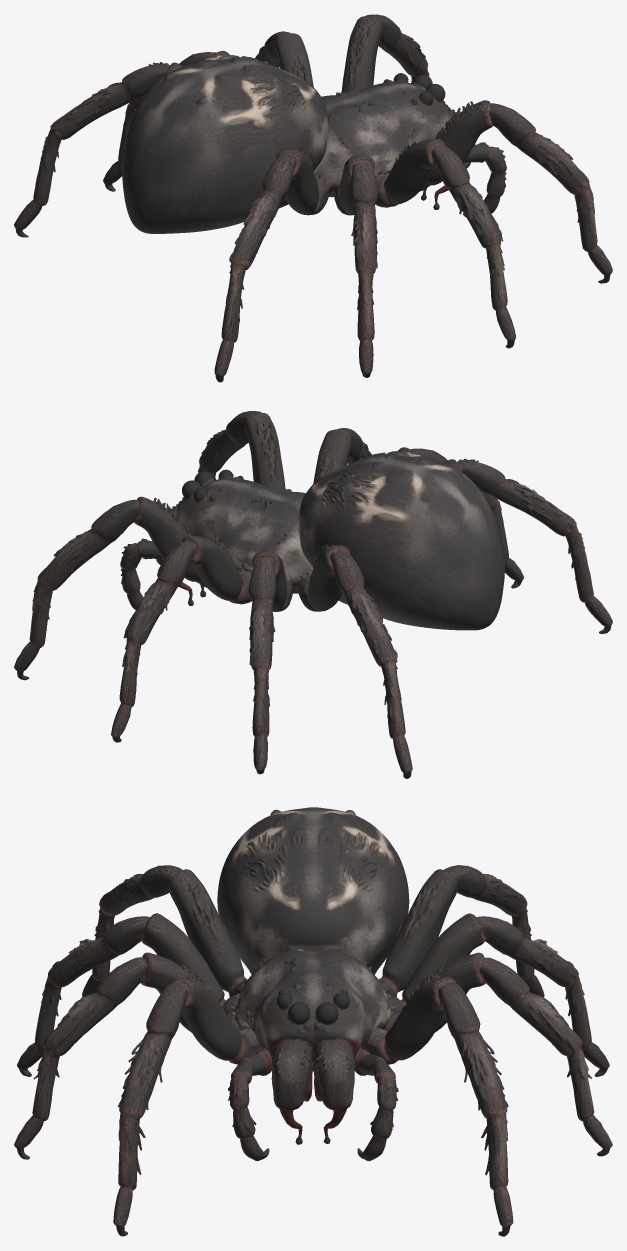
The model's file is spider-original.glb.
3 renders of one model, top to bottom at view 1: azimuth 30°, elevation 25°; view 2: azimuth 150°, elevation 25°; view 3: azimuth 270°, elevation 25°, orthographic. The views are drawn at different scales.
Visible parts, largest first — view 1: tripo_node_8a9a7c1f-1cf7-4bb0-b9ee-af49c4d5c377; view 2: tripo_node_8a9a7c1f-1cf7-4bb0-b9ee-af49c4d5c377; view 3: tripo_node_8a9a7c1f-1cf7-4bb0-b9ee-af49c4d5c377.
Boxes of the visible parts, x1,y1,x2,y2 form: tripo_node_8a9a7c1f-1cf7-4bb0-b9ee-af49c4d5c377: [14, 14, 612, 382]; tripo_node_8a9a7c1f-1cf7-4bb0-b9ee-af49c4d5c377: [14, 411, 612, 778]; tripo_node_8a9a7c1f-1cf7-4bb0-b9ee-af49c4d5c377: [14, 807, 612, 1236].
Size of the model in its own units: 0.8891 by 0.4709 by 1.
1 material, 1 textured.
